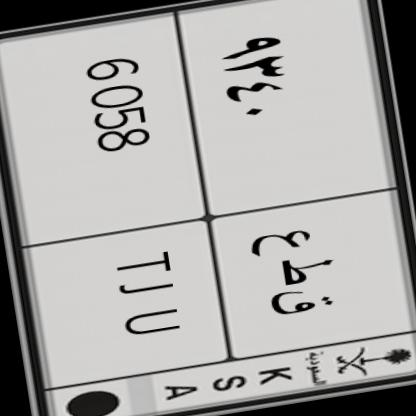english: (0, 6, 242, 393)
